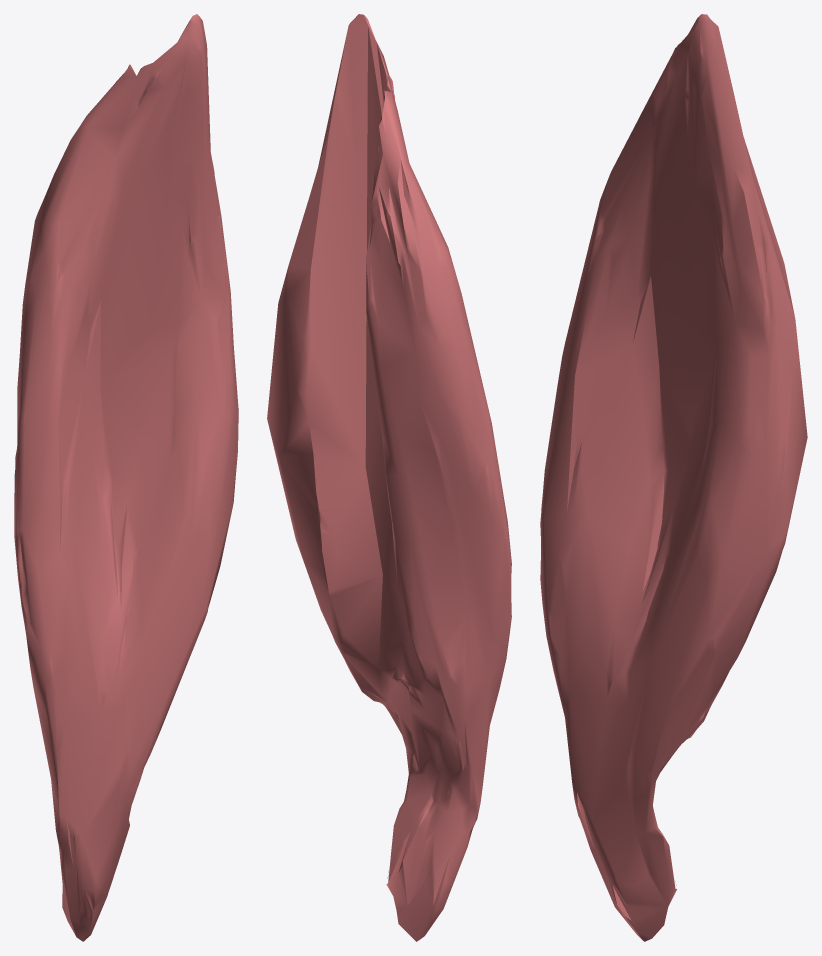
3 views of the same model, side by side, from view 1: azimuth 30°, elevation 25°; view 2: azimuth 150°, elevation 25°; view 3: azimuth 330°, elevation 25° (orthographic). The views are drawn at different scales.
Parts seen in each view (by area): view 1: FJ1486; view 2: FJ1486; view 3: FJ1486.
Part boxes in pixels (box(x1,y1,x2,y2)): FJ1486: box(14, 14, 238, 941); FJ1486: box(267, 14, 511, 941); FJ1486: box(540, 14, 807, 941).
Size of the model in its own units: 0.0584 by 0.2236 by 0.0257.
